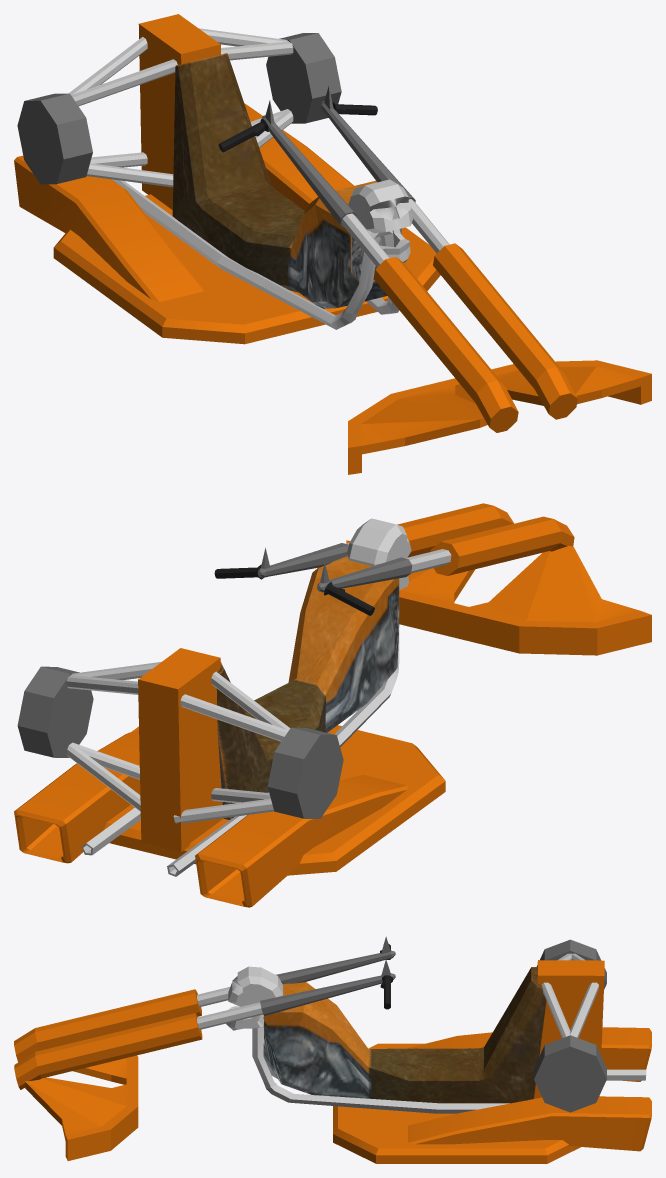
The model's file is Trike_Model.fbx.
The picture shows the model from 3 angles, top to bottom: view 1: azimuth 30°, elevation 25°; view 2: azimuth 150°, elevation 25°; view 3: azimuth 270°, elevation 25°; orthographic projection. The views are drawn at different scales.
Parts seen in each view (by area): view 1: Trike_Model; view 2: Trike_Model; view 3: Trike_Model.
Boxes of the visible parts, x1,y1,x2,y2 form: Trike_Model: (14, 14, 651, 474); Trike_Model: (14, 503, 651, 907); Trike_Model: (14, 936, 651, 1163).
Size of the model in its own units: 18.08 by 11.7 by 41.68.
